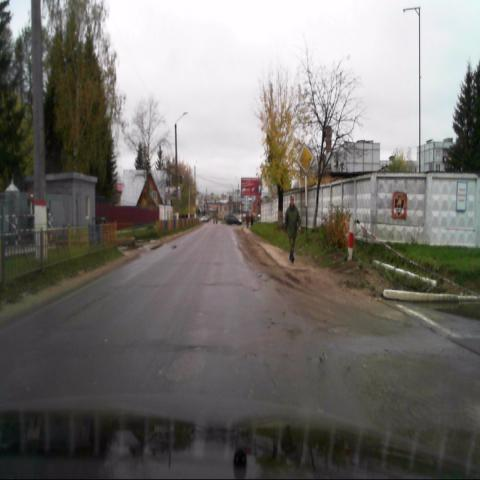2_1: (296, 142, 314, 174)
